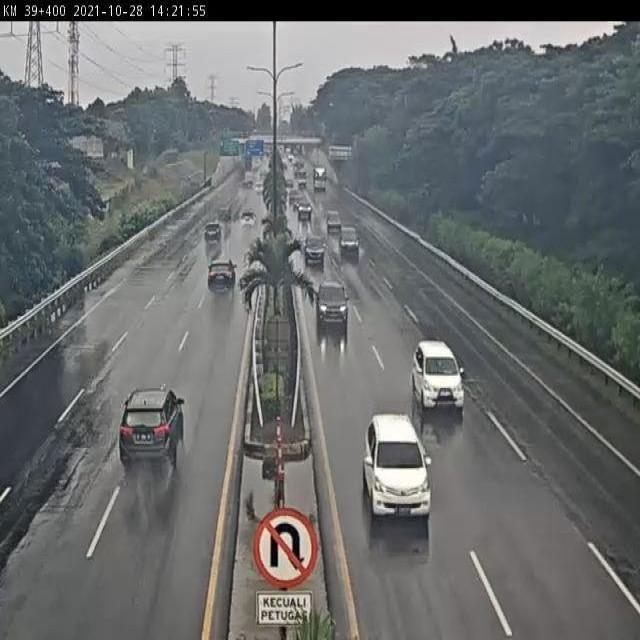car: (362, 416, 436, 520), (120, 386, 188, 466), (413, 341, 464, 411), (316, 279, 349, 324), (206, 259, 236, 293), (303, 233, 327, 266), (339, 224, 360, 257)
